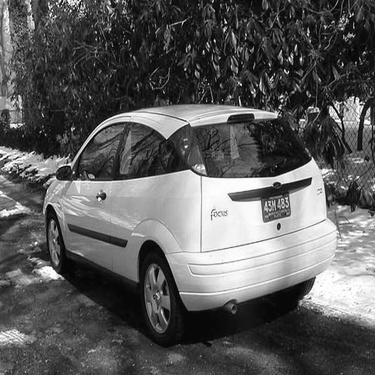car: (36, 90, 340, 350)
